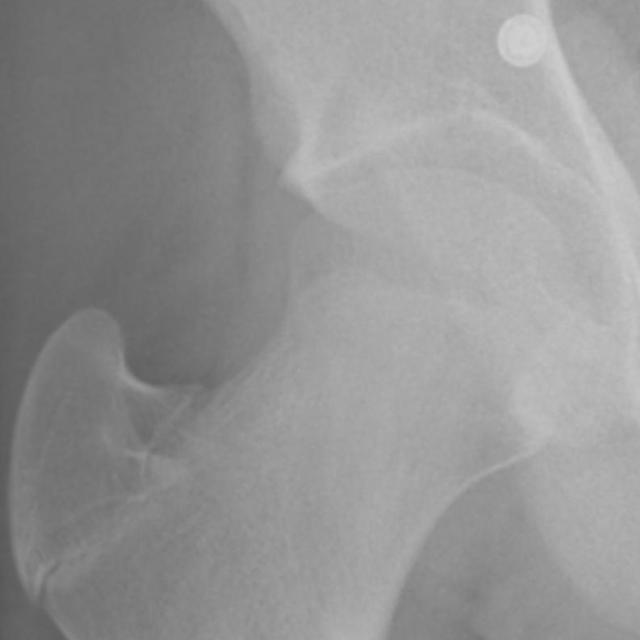Fitted_femural_head: (328, 162, 432, 328)
